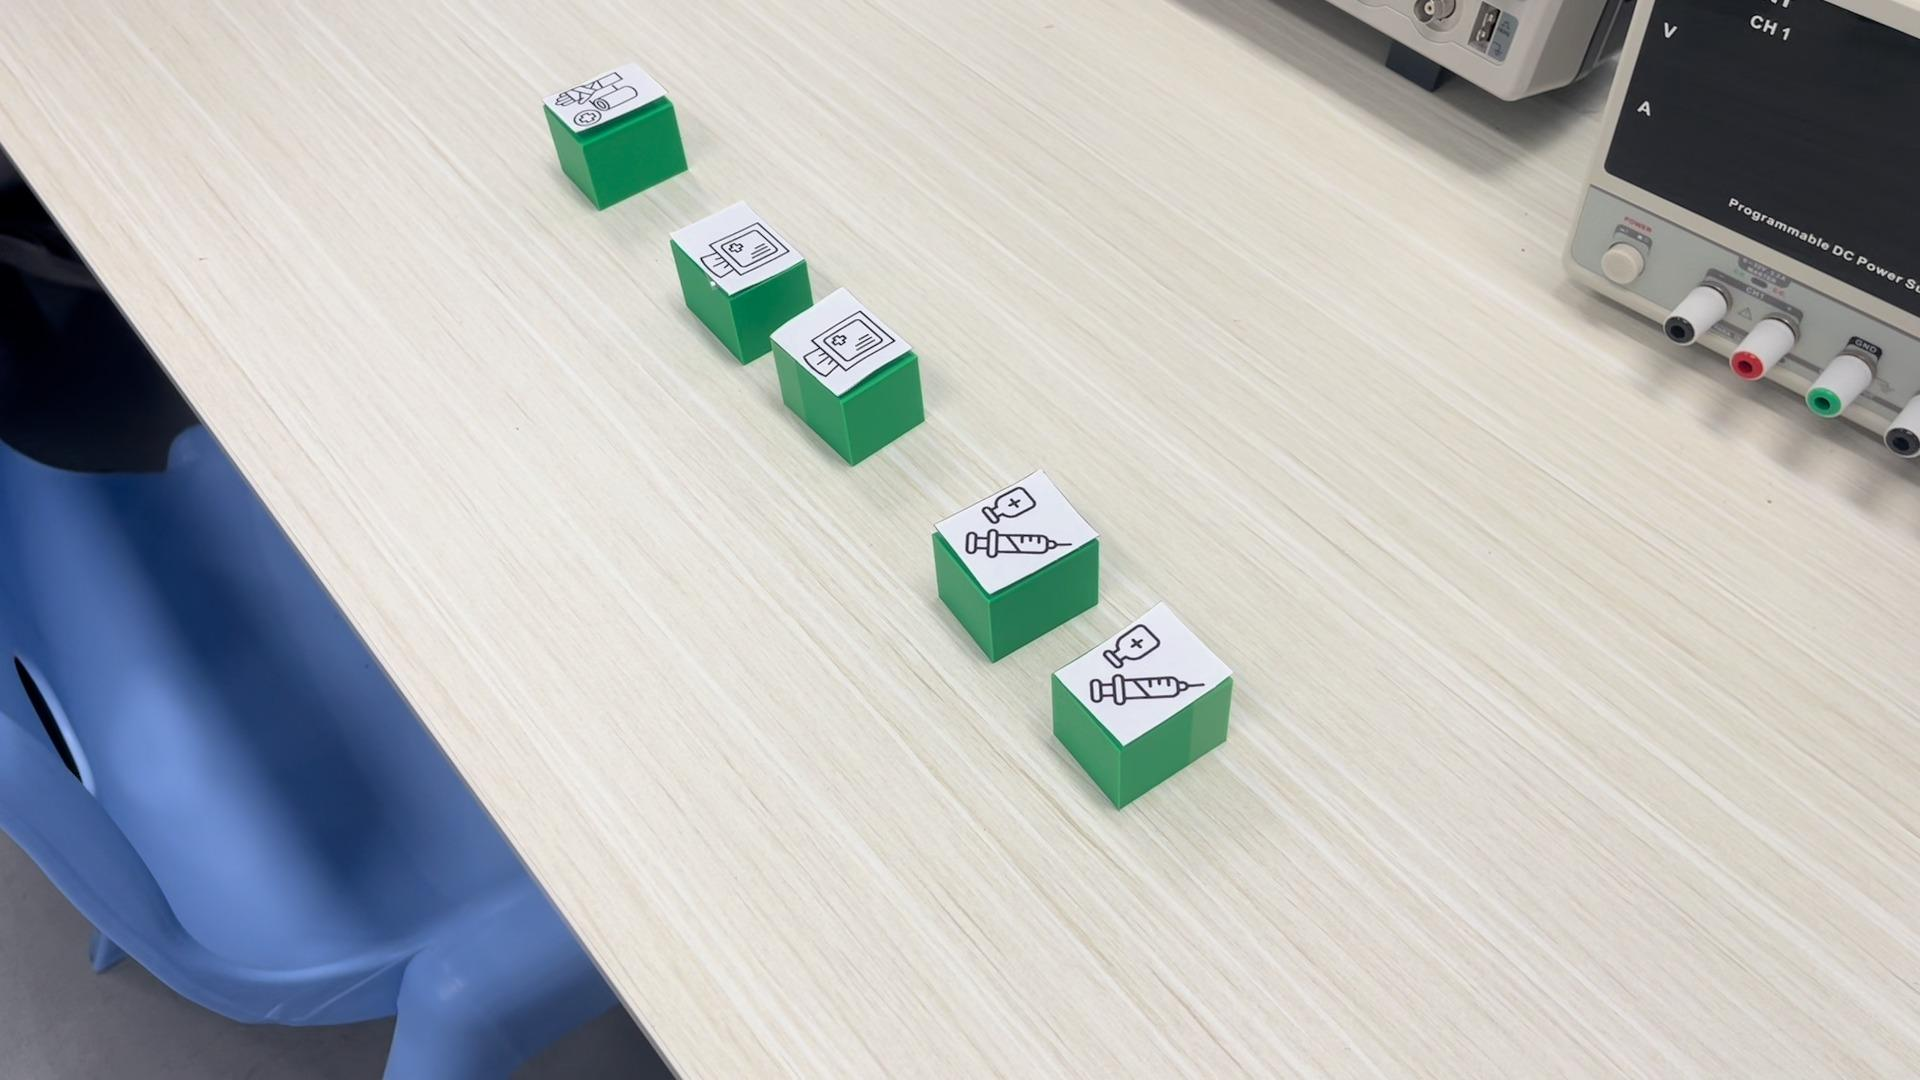Bandages: (541, 58, 688, 211)
Gauze: (771, 284, 924, 467), (669, 198, 814, 310)
antiseptic cream: (1050, 600, 1236, 814), (924, 465, 1124, 665)
